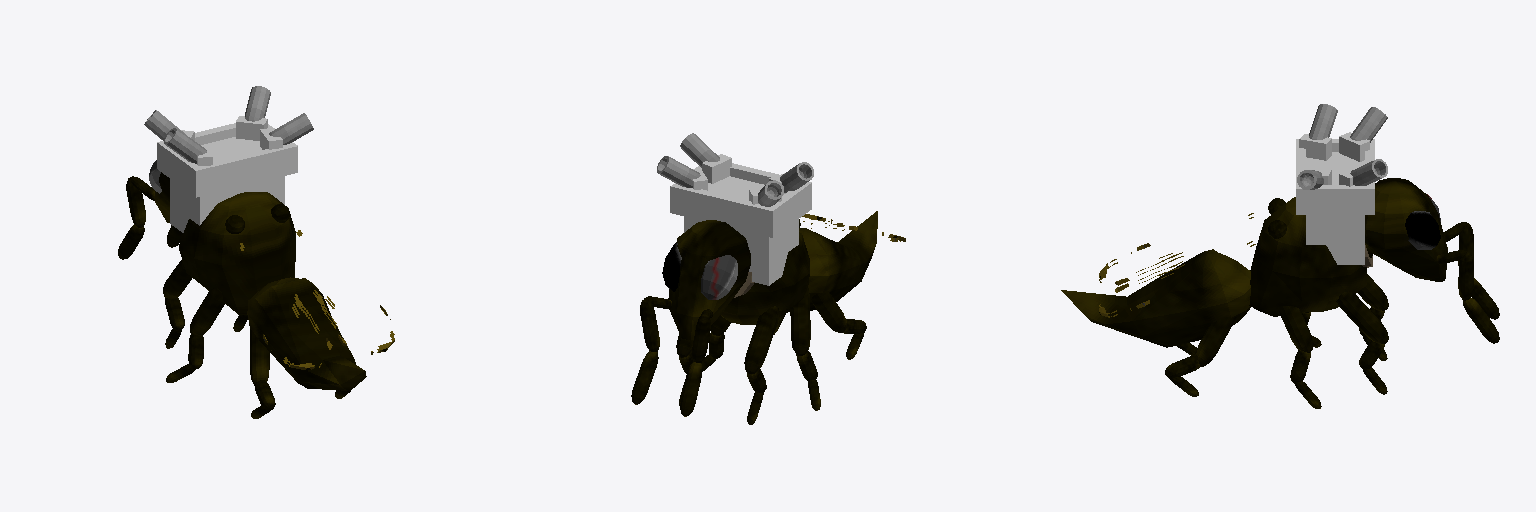
3 renders of one model, left to right at view 1: azimuth 30°, elevation 25°; view 2: azimuth 150°, elevation 25°; view 3: azimuth 270°, elevation 25°, orthographic.
Visible parts, largest first — view 1: cuboid, Body, cylinder, sphere, Wing, WingLimb; view 2: cylinder, sphere, cuboid, Body; view 3: sphere, cylinder, cuboid, Body, Wing.
Boxes of the visible parts, x1=… form: cuboid: x1=157, y1=116, x2=297, y2=232; Body: x1=179, y1=192, x2=295, y2=314; cylinder: x1=118, y1=86, x2=350, y2=418; sphere: x1=149, y1=160, x2=366, y2=390; Wing: x1=240, y1=230, x2=394, y2=370; WingLimb: x1=225, y1=204, x2=289, y2=233; cylinder: x1=631, y1=133, x2=866, y2=424; sphere: x1=662, y1=211, x2=877, y2=340; cuboid: x1=670, y1=154, x2=811, y2=285; Body: x1=721, y1=232, x2=809, y2=324; sphere: x1=1061, y1=178, x2=1447, y2=347; cylinder: x1=1165, y1=104, x2=1499, y2=408; cuboid: x1=1296, y1=132, x2=1374, y2=264; Body: x1=1249, y1=197, x2=1366, y2=316; Wing: x1=1099, y1=213, x2=1255, y2=317.
Bounding box in the file's own units: 1.04 × 1.74 × 2.79.
4 materials, 3 textured.